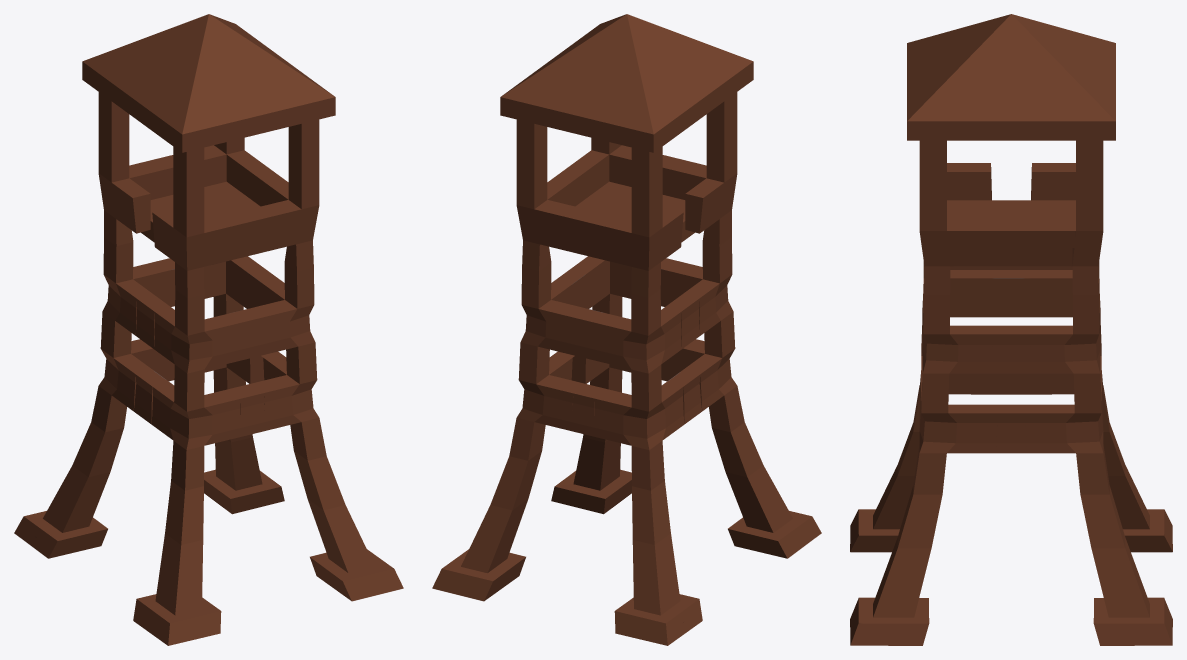
Rendered from Tower.fbx.
3 renders of one model, left to right at view 1: azimuth 30°, elevation 25°; view 2: azimuth 150°, elevation 25°; view 3: azimuth 270°, elevation 25°, orthographic. The views are drawn at different scales.
Parts seen in each view (by area): view 1: Tower; view 2: Tower; view 3: Tower.
Part boxes in pixels (<box>): Tower: <box>14,14,403,645</box>; Tower: <box>432,14,821,645</box>; Tower: <box>850,14,1172,645</box>.
Size of the model in its own units: 3302 by 7301 by 3736.
1 material, 1 textured.
